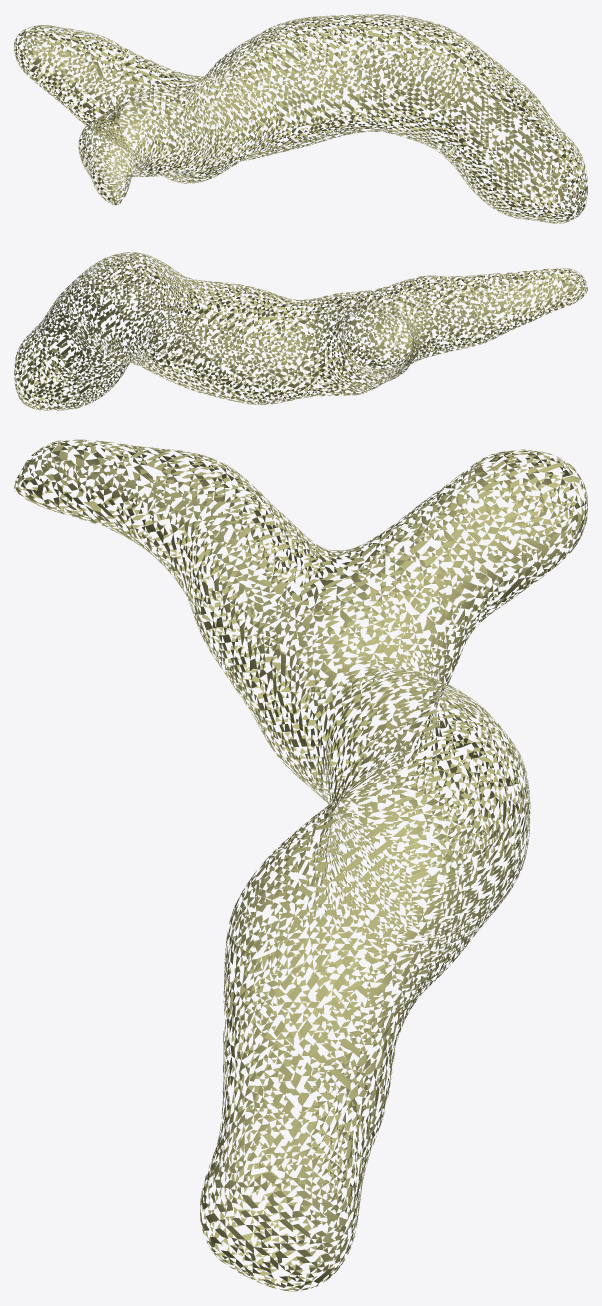
Rendered from morph_009.glb.
3 views of the same model, one above another, from view 1: azimuth 30°, elevation 25°; view 2: azimuth 150°, elevation 25°; view 3: azimuth 270°, elevation 25° (orthographic). The views are drawn at different scales.
Bounding box in the file's own units: 97.67 × 42.78 × 50.12.
